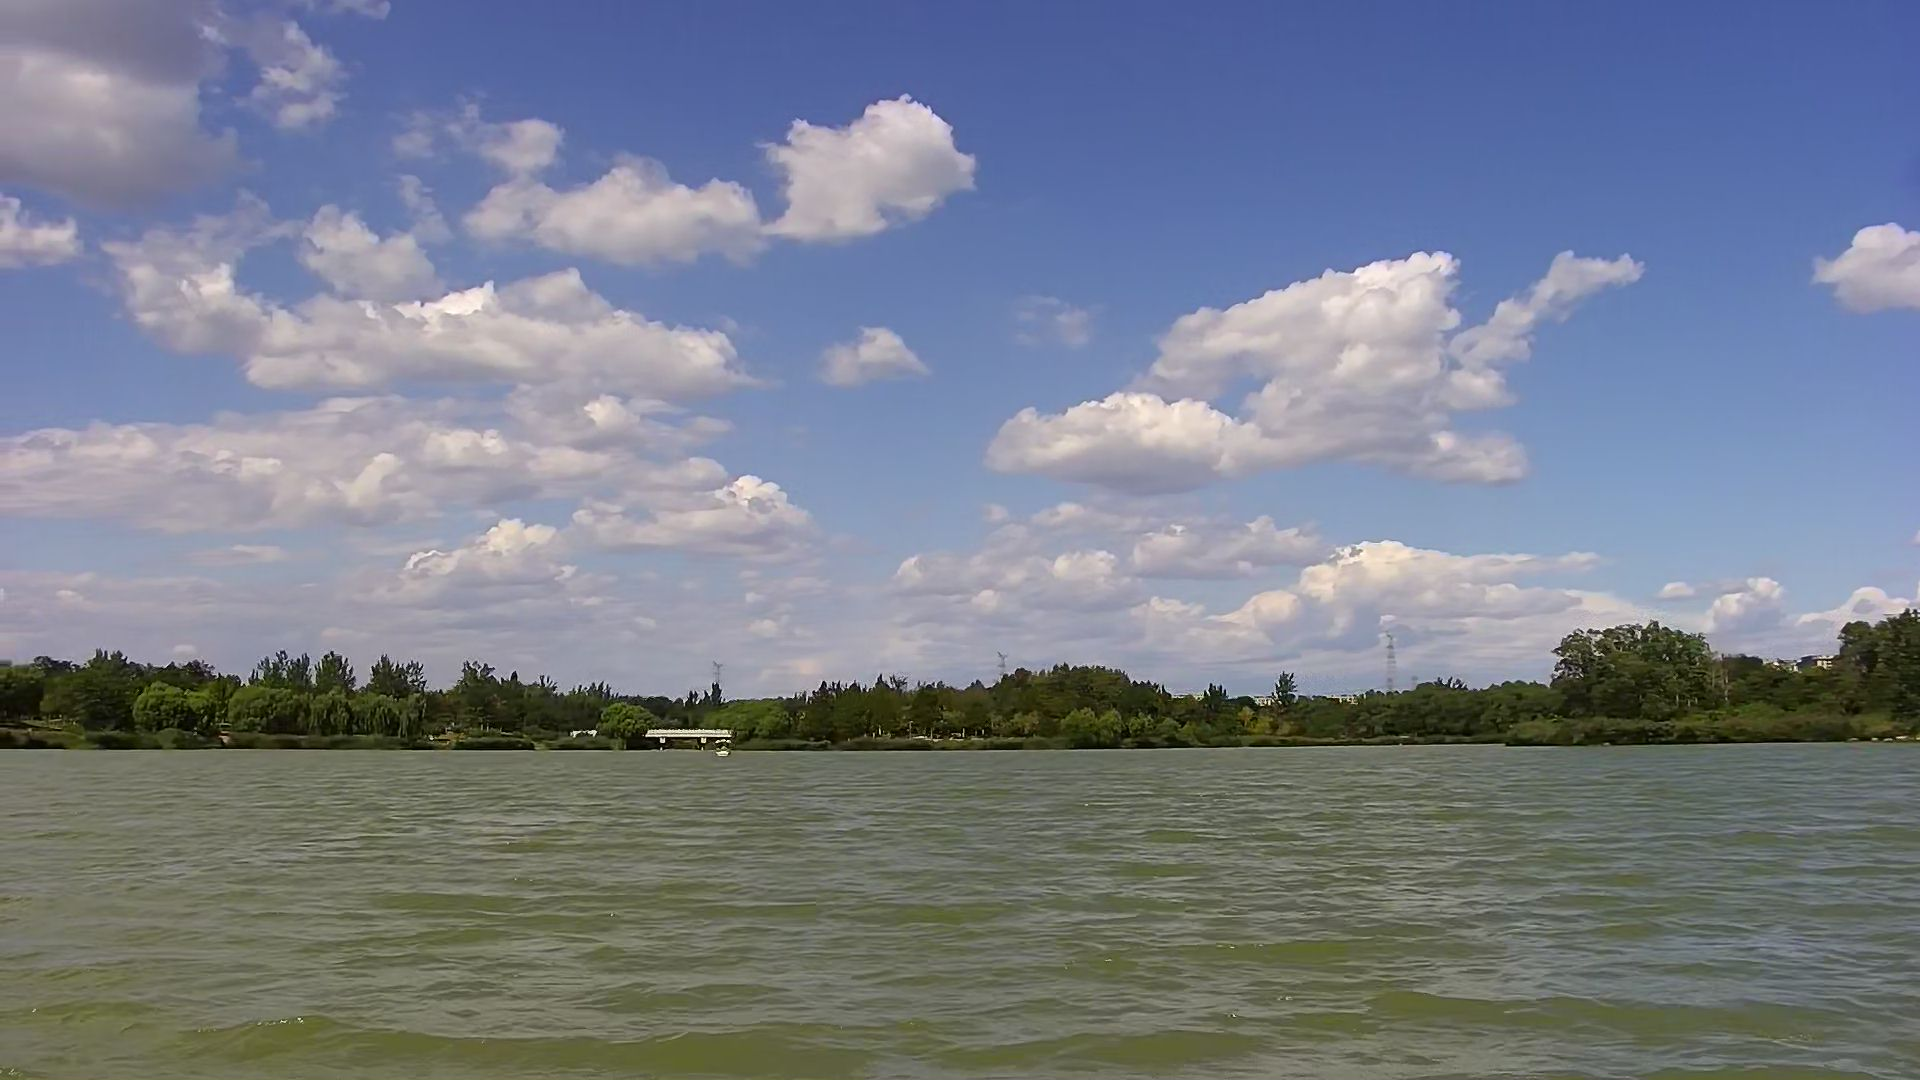bridge: (647, 723, 737, 746)
